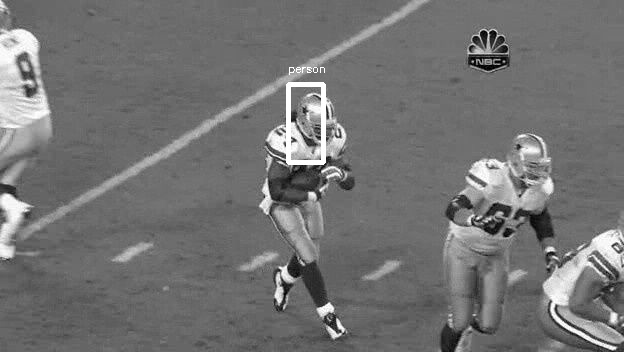person: (298, 93, 335, 141), (297, 93, 334, 141), (299, 93, 336, 141), (298, 92, 335, 140), (298, 94, 335, 142)
target_negative: (118, 281, 290, 342), (457, 260, 616, 320), (603, 9, 623, 221), (56, 328, 393, 339), (30, 330, 157, 331)
